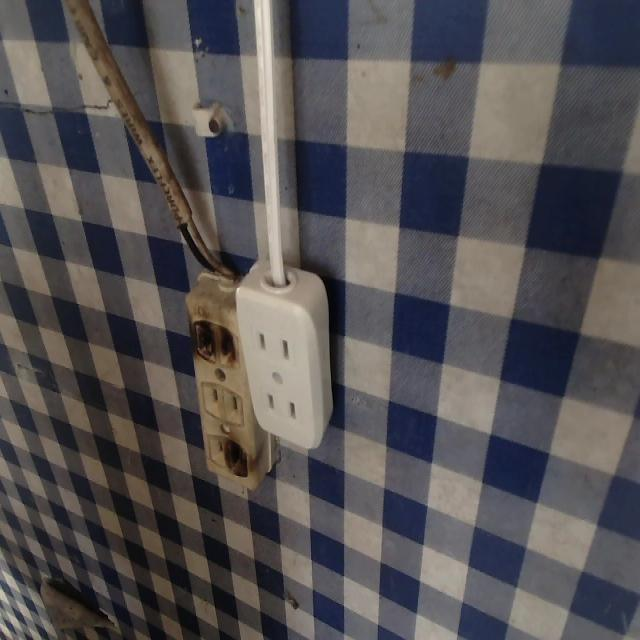-: (189, 316, 241, 372), (225, 437, 252, 479)
